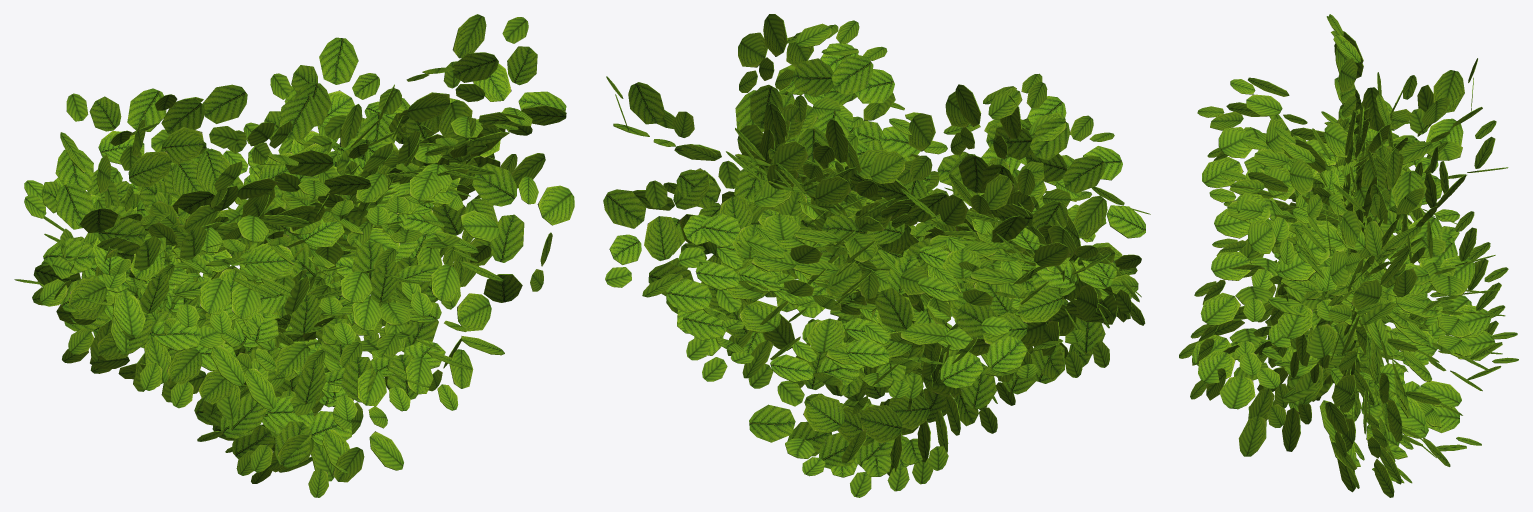
File: brushes.glb
The picture shows the model from 3 angles, left to right: view 1: azimuth 30°, elevation 25°; view 2: azimuth 150°, elevation 25°; view 3: azimuth 270°, elevation 25°; orthographic projection. The views are drawn at different scales.
Visible parts, largest first — view 1: brush; view 2: brush; view 3: brush.
Part boxes in pixels (x1=…): brush: x1=14, y1=14, x2=574, y2=497; brush: x1=603, y1=14, x2=1150, y2=497; brush: x1=1179, y1=14, x2=1518, y2=497.
Size of the model in its own units: 5.65 by 4.39 by 3.37.
Materials: 1 (1 with a texture image).
